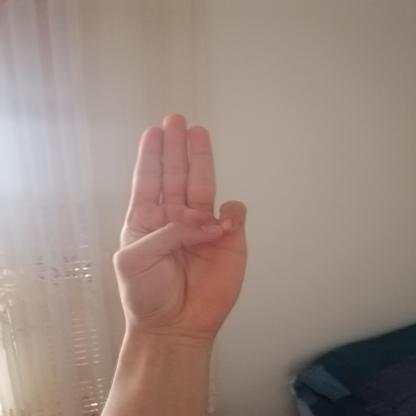THA: (95, 102, 263, 347)
